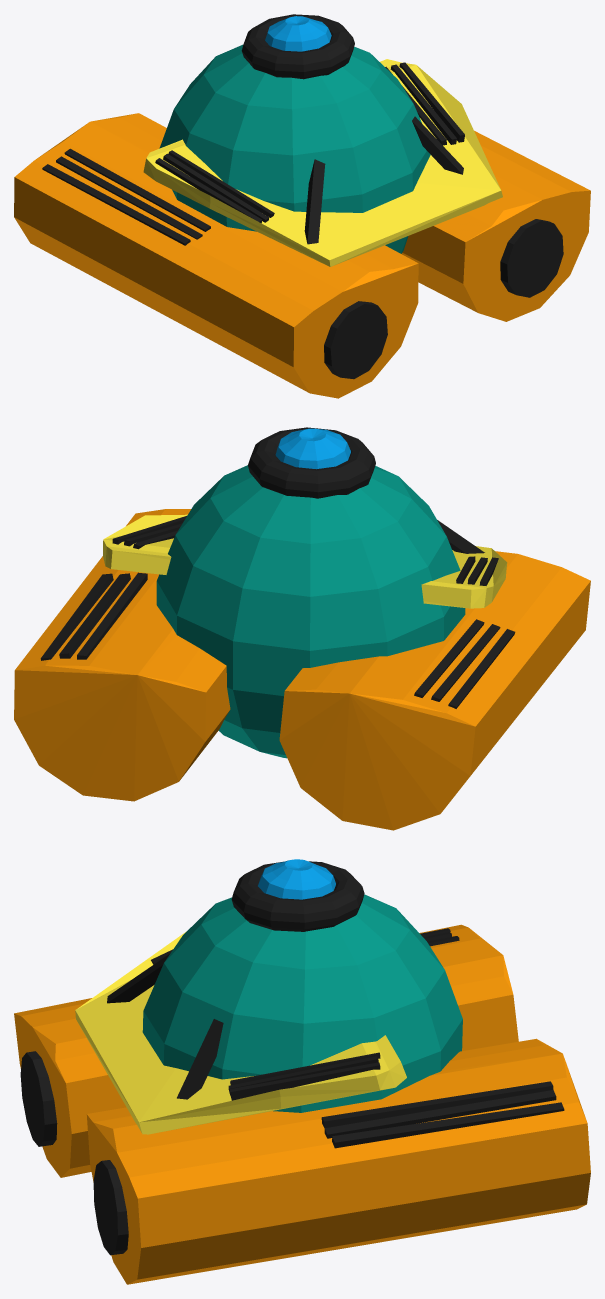
The model's file is model-triangulated.obj.
3 views of the same model, one above another, from view 1: azimuth 30°, elevation 25°; view 2: azimuth 150°, elevation 25°; view 3: azimuth 270°, elevation 25° (orthographic). The views are drawn at different scales.
Parts seen in each view (by area): view 1: group648199423, group1838254155, group136106421, group5235000, group1585872979, group575173876, group257764565, group602935042, group214744520, group541293239, group523938752, group1153006461 (+6 smaller); view 2: group1838254155, group648199423, group136106421, group5235000, group1585872979, group602935042, group1907958409, group1868017394, group1827265989, group541293239, group214744520, group523938752 (+1 smaller); view 3: group136106421, group1838254155, group648199423, group5235000, group1585872979, group1827265989, group1907958409, group257764565, group575173876, group1868017394, group602935042, group1603950025 (+4 smaller).
Boxes of the visible parts, x1=… form: group648199423: x1=14, y1=113, x2=418, y2=398; group1838254155: x1=159, y1=44, x2=430, y2=253; group136106421: x1=401, y1=130, x2=590, y2=321; group5235000: x1=143, y1=59, x2=502, y2=266; group1585872979: x1=241, y1=14, x2=354, y2=79; group575173876: x1=500, y1=219, x2=563, y2=297; group257764565: x1=324, y1=301, x2=387, y2=379; group602935042: x1=265, y1=16, x2=331, y2=51; group214744520: x1=42, y1=164, x2=190, y2=245; group541293239: x1=64, y1=148, x2=210, y2=231; group523938752: x1=56, y1=156, x2=202, y2=239; group1153006461: x1=304, y1=159, x2=325, y2=244; group1838254155: x1=156, y1=465, x2=465, y2=758; group648199423: x1=279, y1=551, x2=590, y2=830; group136106421: x1=14, y1=509, x2=230, y2=801; group5235000: x1=103, y1=514, x2=507, y2=608; group1585872979: x1=248, y1=427, x2=375, y2=498; group602935042: x1=275, y1=428, x2=350, y2=469; group1907958409: x1=59, y1=573, x2=130, y2=658; group1868017394: x1=77, y1=572, x2=147, y2=659; group1827265989: x1=40, y1=573, x2=113, y2=660; group541293239: x1=414, y1=619, x2=484, y2=697; group214744520: x1=448, y1=629, x2=515, y2=708; group523938752: x1=431, y1=624, x2=500, y2=701; group136106421: x1=86, y1=1038, x2=590, y2=1284; group1838254155: x1=142, y1=894, x2=462, y2=1112; group648199423: x1=14, y1=924, x2=518, y2=1177; group5235000: x1=75, y1=931, x2=406, y2=1134; group1585872979: x1=231, y1=861, x2=364, y2=931; group1827265989: x1=332, y1=1102, x2=564, y2=1148; group1907958409: x1=324, y1=1090, x2=556, y2=1138; group257764565: x1=20, y1=1051, x2=57, y2=1146; group575173876: x1=93, y1=1160, x2=128, y2=1255; group1868017394: x1=321, y1=1081, x2=553, y2=1128; group602935042: x1=258, y1=859, x2=335, y2=899; group1603950025: x1=230, y1=1062, x2=380, y2=1100.
Size of the model in its own units: 0.9333 by 0.577 by 0.9068.
